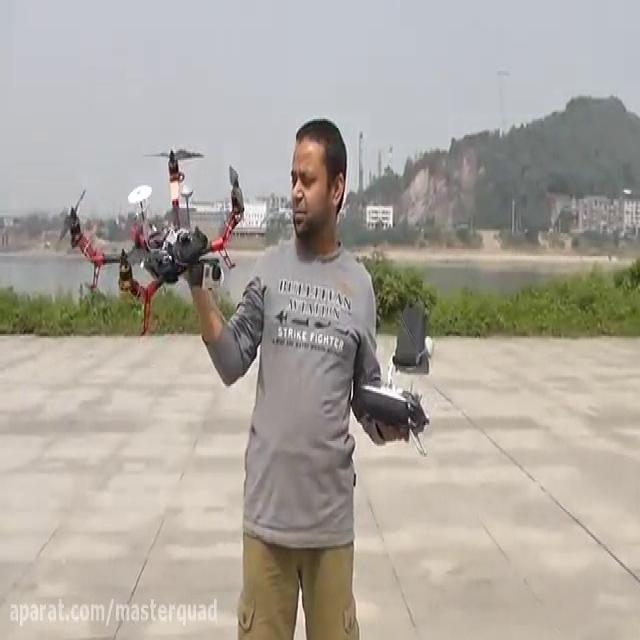drone: (55, 140, 247, 340)
